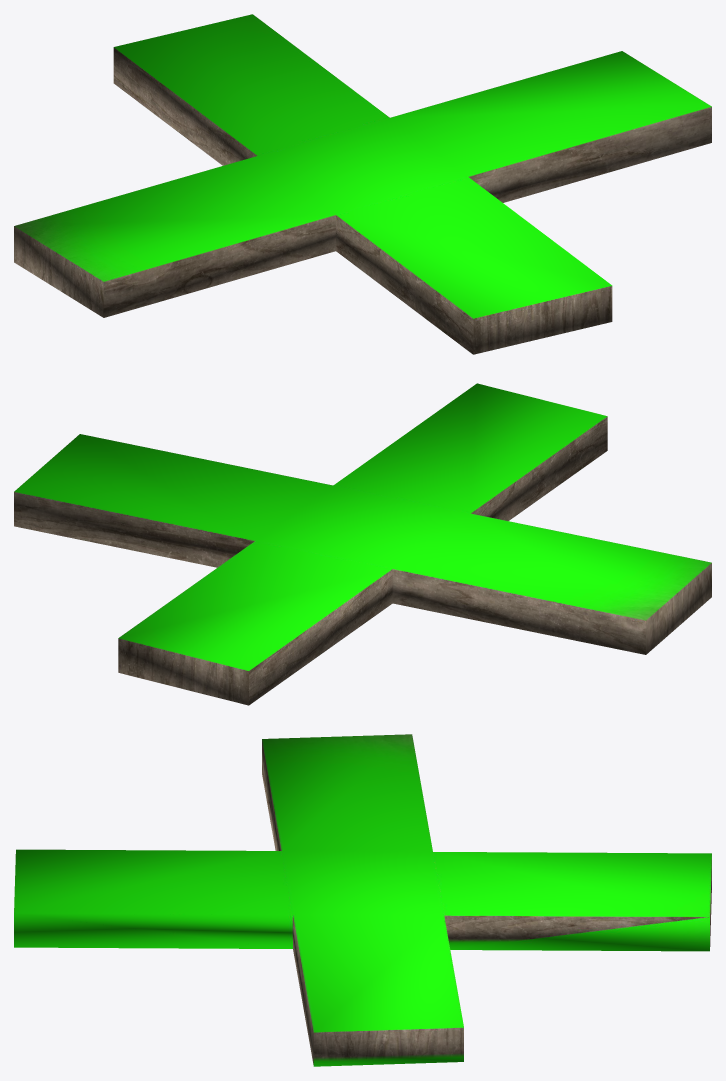
File: miragreen.gltf
3 renders of one model, top to bottom at view 1: azimuth 30°, elevation 25°; view 2: azimuth 150°, elevation 25°; view 3: azimuth 270°, elevation 25°, orthographic. The views are drawn at different scales.
Visible parts, largest first — view 1: digging_spot_low; view 2: digging_spot_low; view 3: digging_spot_low.
Part boxes in pixels (left/top/right/bottom): digging_spot_low: left=14, top=14, right=711, bottom=354; digging_spot_low: left=14, top=383, right=711, bottom=705; digging_spot_low: left=14, top=734, right=711, bottom=1066.
Size of the model in its own units: 2.24 by 0.1202 by 2.21.
Materials: 1 (1 with a texture image).
